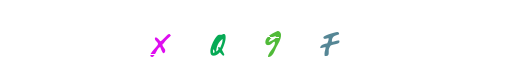9: (225, 0, 305, 80)
F: (261, 0, 341, 80)
Q: (203, 0, 283, 80)
X: (120, 0, 200, 80)
